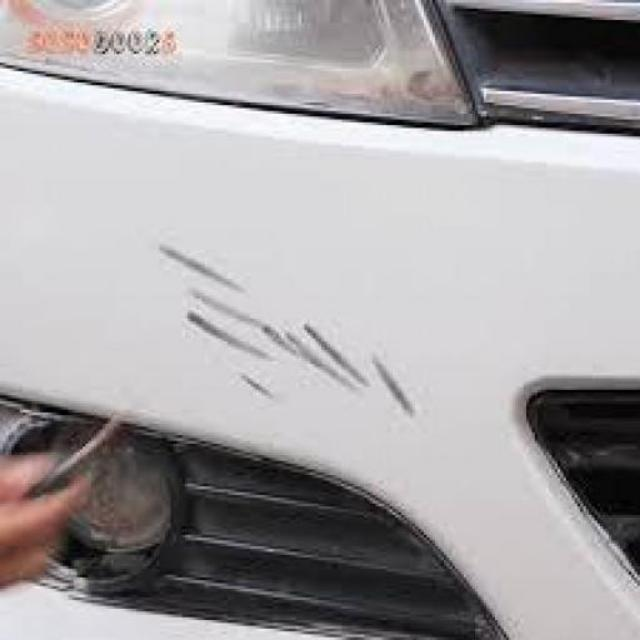rub: (154, 245, 424, 424)
